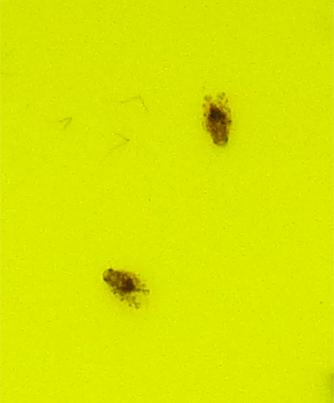Hemiptera: (100, 265, 146, 303), (202, 100, 234, 147)
